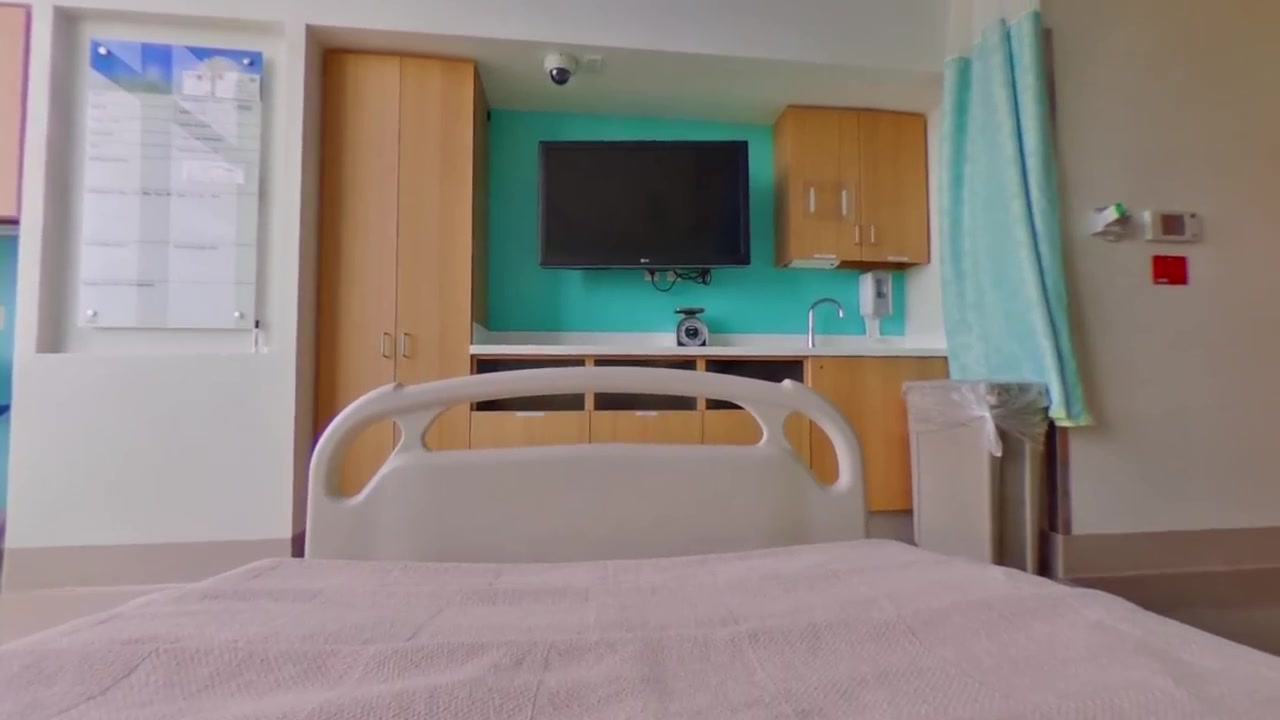TV: (537, 141, 753, 269)
cabinet: (320, 50, 491, 451), (770, 106, 931, 272)
countertop: (473, 330, 942, 361)
curtain: (940, 1, 1093, 376)
dispenser: (855, 270, 893, 320)
faucet: (804, 297, 845, 349)
foot_board: (305, 365, 866, 563)
handle: (375, 330, 391, 361), (398, 330, 413, 362), (851, 221, 864, 247), (869, 222, 878, 246)
hospital_bed: (1, 366, 1280, 720)
waste_bin: (900, 378, 1049, 577)
